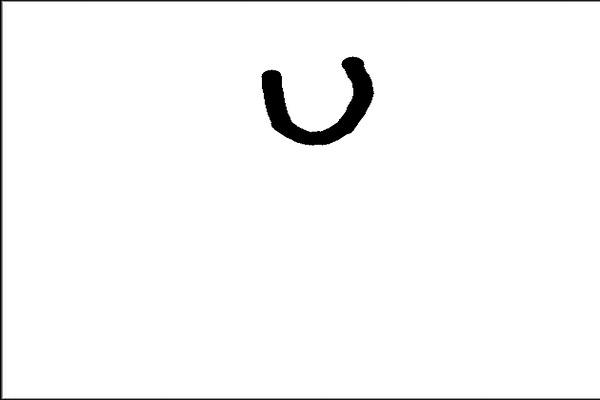U: (249, 46, 397, 153)
